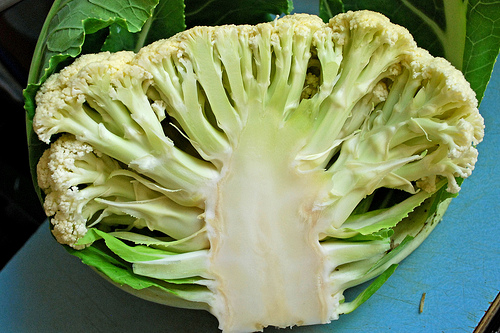cauliflower: (27, 10, 486, 332)
